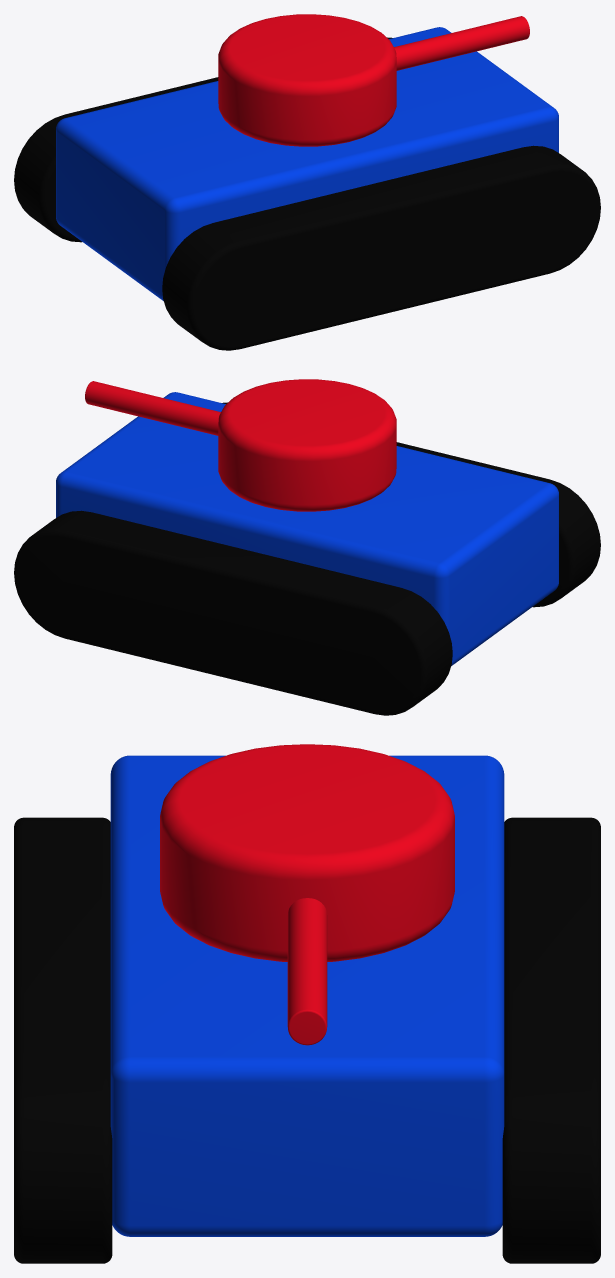
Rendered from player2.dae.
3 views of the same model, one above another, from view 1: azimuth 30°, elevation 25°; view 2: azimuth 150°, elevation 25°; view 3: azimuth 270°, elevation 25° (orthographic). The views are drawn at different scales.
Parts seen in each view (by area): view 1: Tracks, Body, Head, Barrel; view 2: Tracks, Body, Head, Barrel; view 3: Body, Tracks, Head, Barrel.
Part boxes in pixels (box(x1,y1,x2,y2)): Tracks: box(14, 37, 600, 350); Body: box(56, 27, 558, 300); Head: box(218, 14, 396, 146); Barrel: box(394, 16, 529, 70); Tracks: box(14, 402, 600, 715); Body: box(56, 392, 558, 665); Head: box(218, 379, 396, 511); Barrel: box(85, 381, 220, 435); Body: box(110, 755, 504, 1236); Tracks: box(14, 817, 600, 1263); Head: box(160, 744, 454, 961); Barrel: box(287, 898, 327, 1045).
Bounding box in the file's own units: 4.1 × 2.98 × 1.85.
